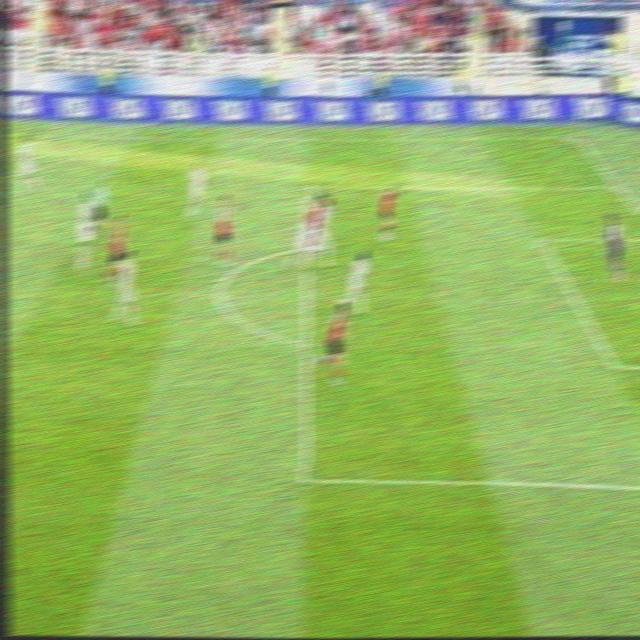bigarea_bottom_inner: (295, 465, 314, 489)
bigarea_top_inner: (298, 179, 319, 196)
bigarea_top_outter: (609, 180, 621, 190)
bottom_arc_area_intersection: (297, 336, 313, 354)
corner: (568, 132, 582, 140)
smallarea_bottom_inner: (603, 351, 622, 374)
smallarea_top_inner: (534, 233, 549, 249)
